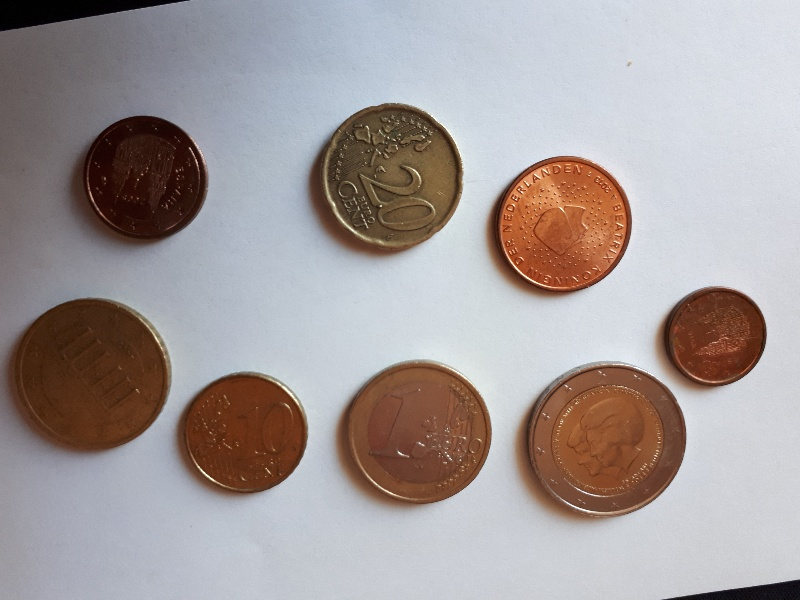1 cent: (668, 286, 772, 389)
1 euro: (344, 361, 500, 505)
10 cent: (180, 367, 312, 502), (80, 109, 211, 239)
2 euro: (524, 360, 693, 520)
20 cent: (12, 289, 183, 453), (319, 103, 467, 253)
5 cent: (493, 154, 641, 295)
